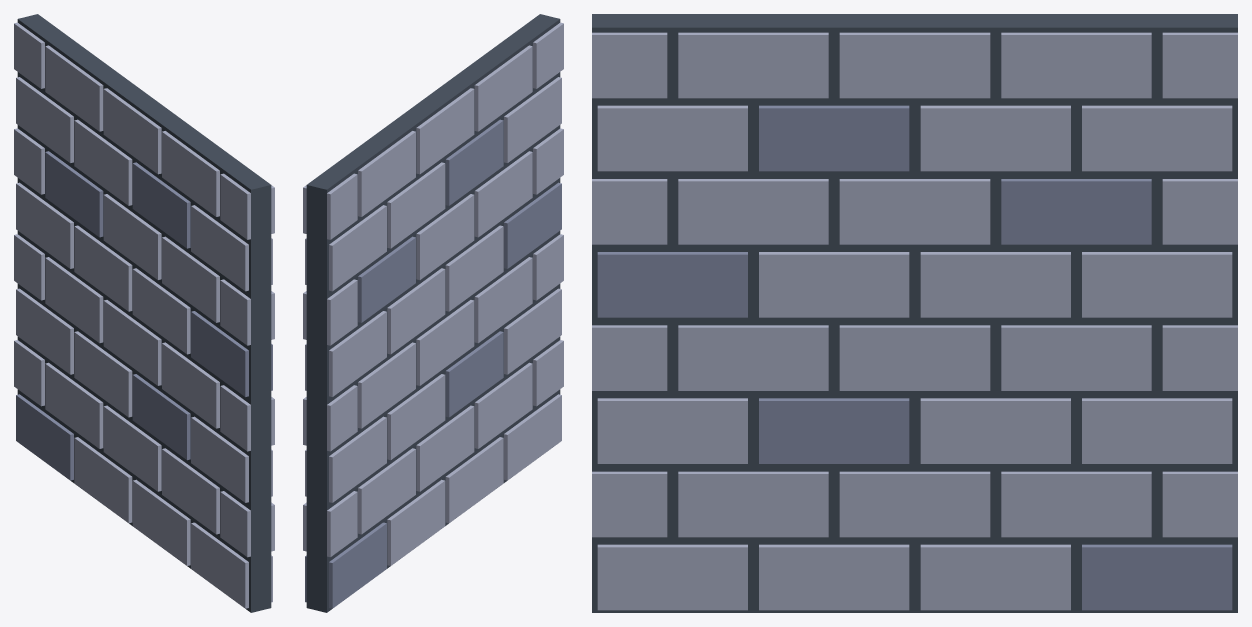
The model's file is Wall_Stone.fbx.
The picture shows the model from 3 angles, left to right: view 1: azimuth 30°, elevation 25°; view 2: azimuth 150°, elevation 25°; view 3: azimuth 270°, elevation 25°; orthographic projection. The views are drawn at different scales.
Parts seen in each view (by area): view 1: Wall_Stone; view 2: Wall_Stone; view 3: Wall_Stone.
Part boxes in pixels (x1,y1,x2,y2): Wall_Stone: (14, 14, 274, 612); Wall_Stone: (303, 14, 563, 612); Wall_Stone: (592, 14, 1237, 612).
Bounding box in the file's own units: 0.136 × 2 × 2.
